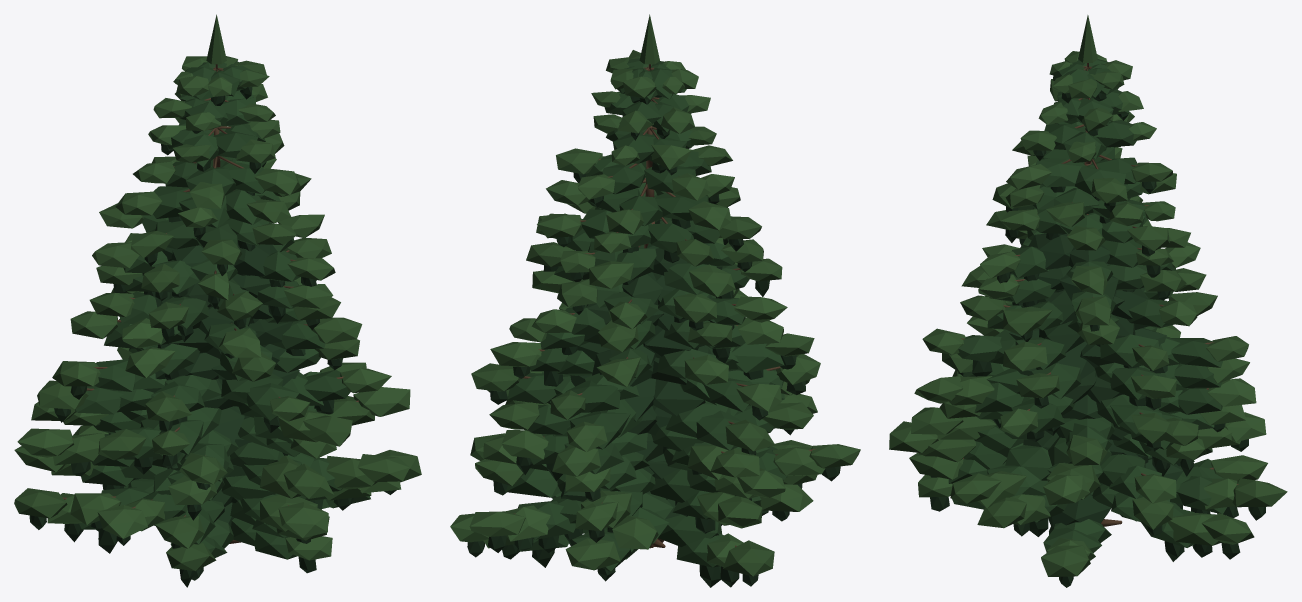
File: spruce.glb
The picture shows the model from 3 angles, left to right: view 1: azimuth 30°, elevation 25°; view 2: azimuth 150°, elevation 25°; view 3: azimuth 270°, elevation 25°; orthographic projection. The views are drawn at different scales.
Parts seen in each view (by area): view 1: spruce_needles, spruce_bark; view 2: spruce_needles, spruce_bark; view 3: spruce_needles, spruce_bark.
Boxes of the visible parts, x1=… form: spruce_needles: x1=14, y1=14, x2=421, y2=587; spruce_bark: x1=63, y1=64, x2=358, y2=543; spruce_needles: x1=450, y1=14, x2=860, y2=587; spruce_bark: x1=514, y1=64, x2=816, y2=548; spruce_needles: x1=889, y1=15, x2=1287, y2=587; spruce_bark: x1=961, y1=63, x2=1238, y2=539.
Size of the model in its own units: 7.19 by 10.35 by 7.2.
